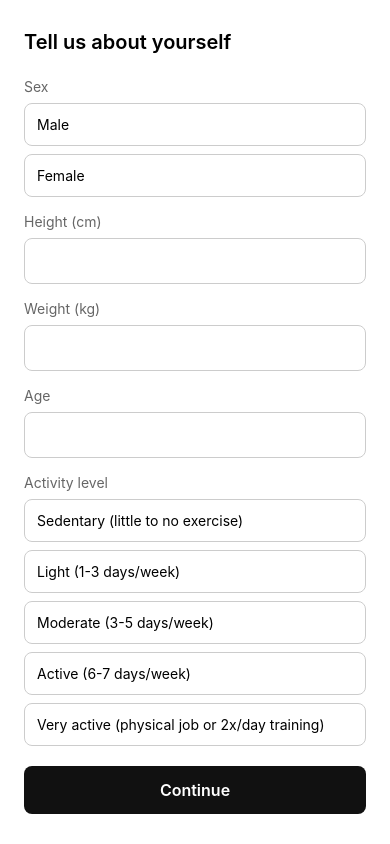
Test: BodyStatsScreen › requires an activity level to be selected
Click the element with test id "sex-option-male": coordinates (195, 124) x1=24 y1=103 x2=366 y2=146
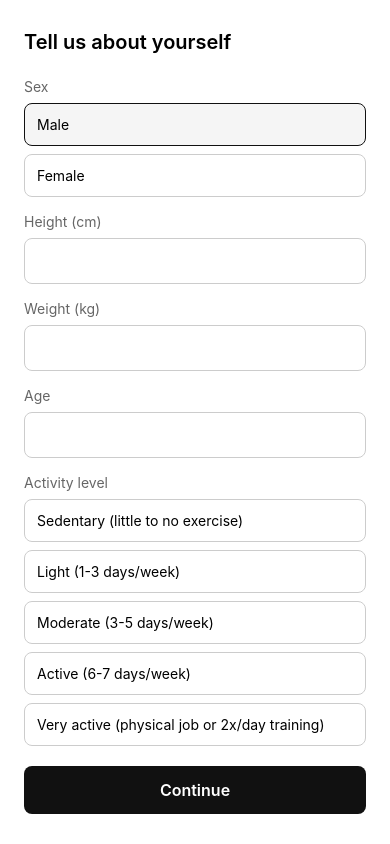
In the field with test id "height-input": coordinates (195, 261) x1=24 y1=238 x2=366 y2=284, type "170"
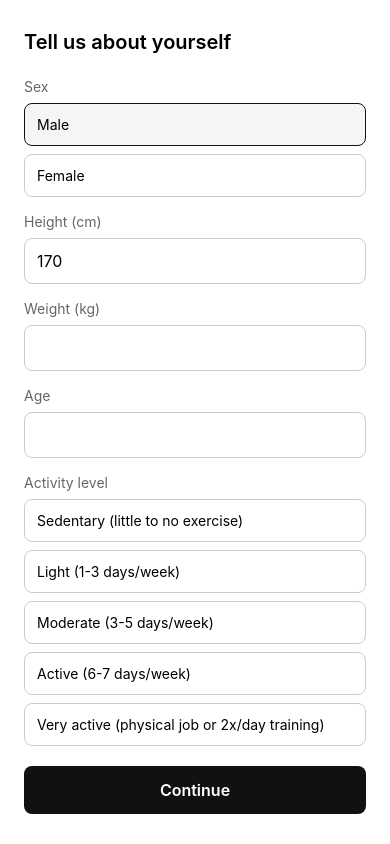
In the field with test id "weight-input": coordinates (195, 348) x1=24 y1=325 x2=366 y2=371, type "65"
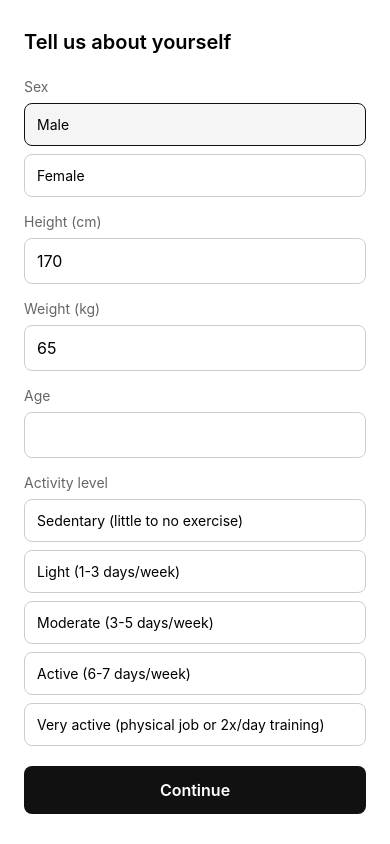
In the field with test id "age-input": coordinates (195, 435) x1=24 y1=412 x2=366 y2=458, type "35"
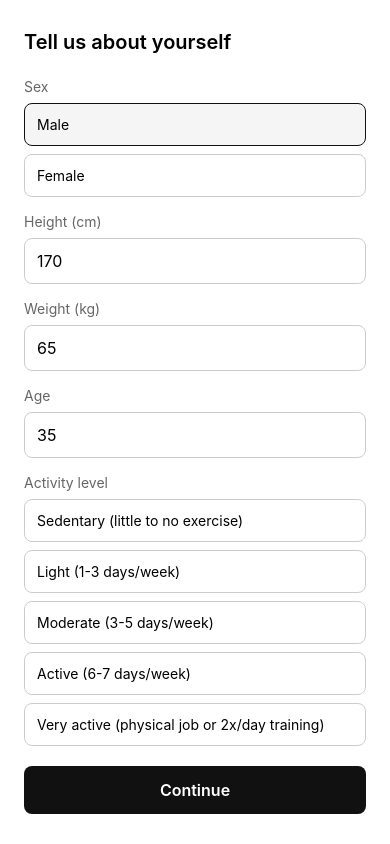
Click the element with test id "body-stats-continue-button": coordinates (195, 790) x1=24 y1=766 x2=366 y2=814
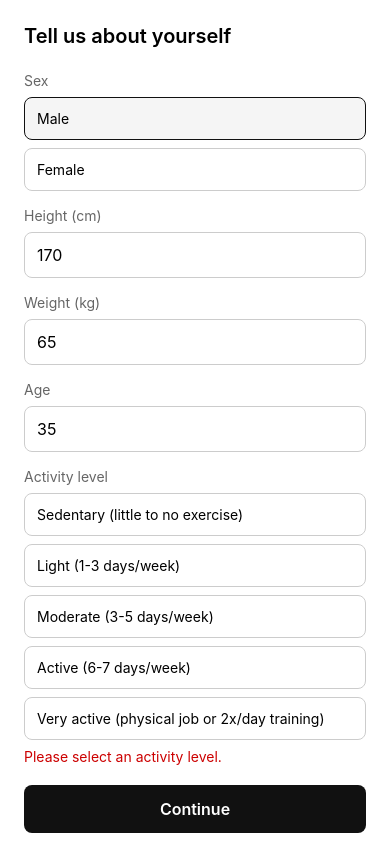
Expected: the text "Please select an activity level." is shown, x1=24 y1=748 x2=222 y2=765
